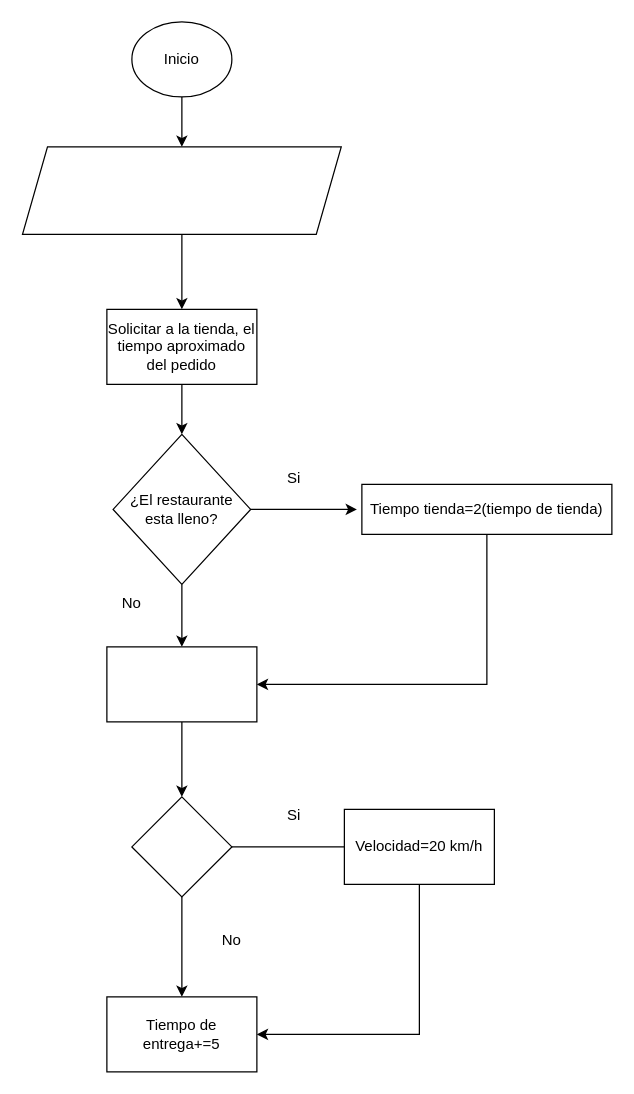
The diagram is 634 pixels wide and 1094 high, and some of its shapes have lost their labels. Here are the shapes that lost their labels. From the top down, the centre of each, then its label:
At pixel 181 190: "Tiempo restaurant, lleno, velocidad= 40, trafico, tiempo de entrega".
At pixel 181 684: "Enviar pedido cuando este listo".
At pixel 181 846: "¿Hay trafico?".
